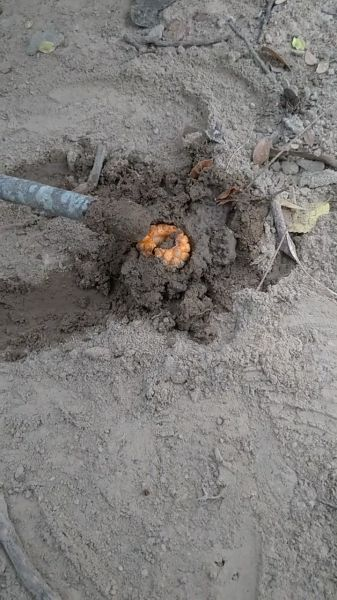eggs: (131, 215, 201, 277)
